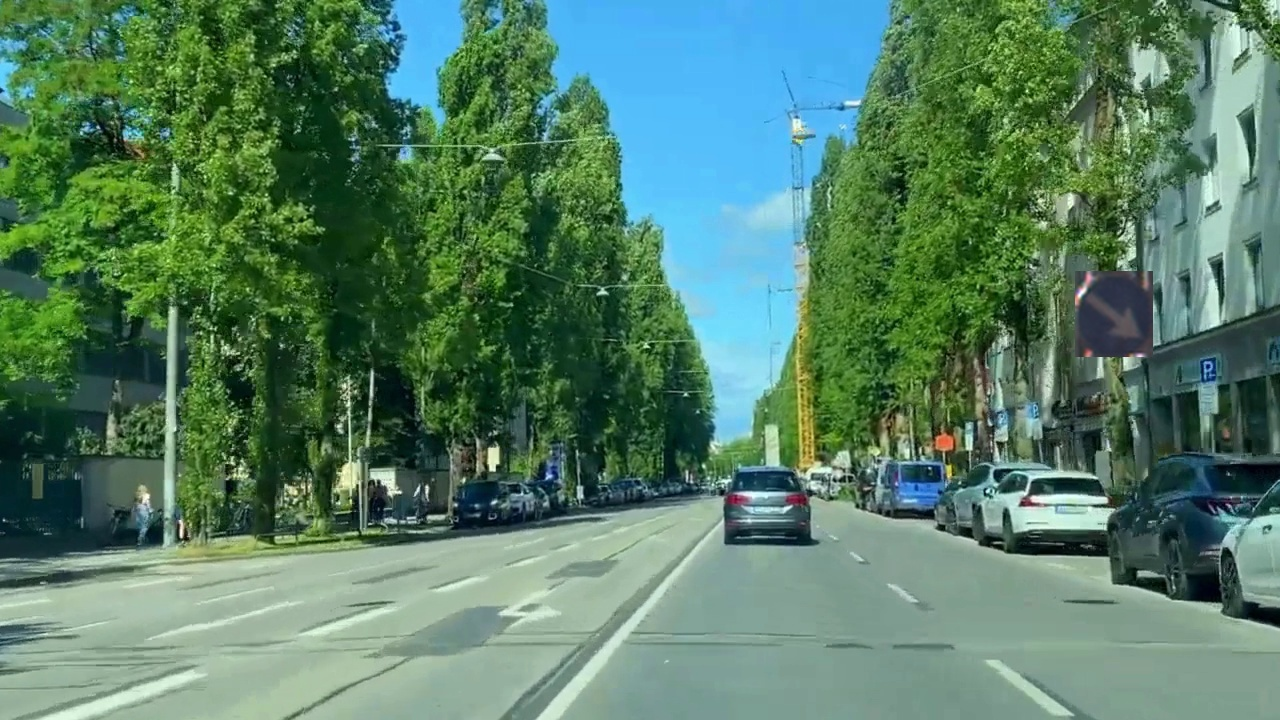Keep right: (1075, 271, 1153, 357)
